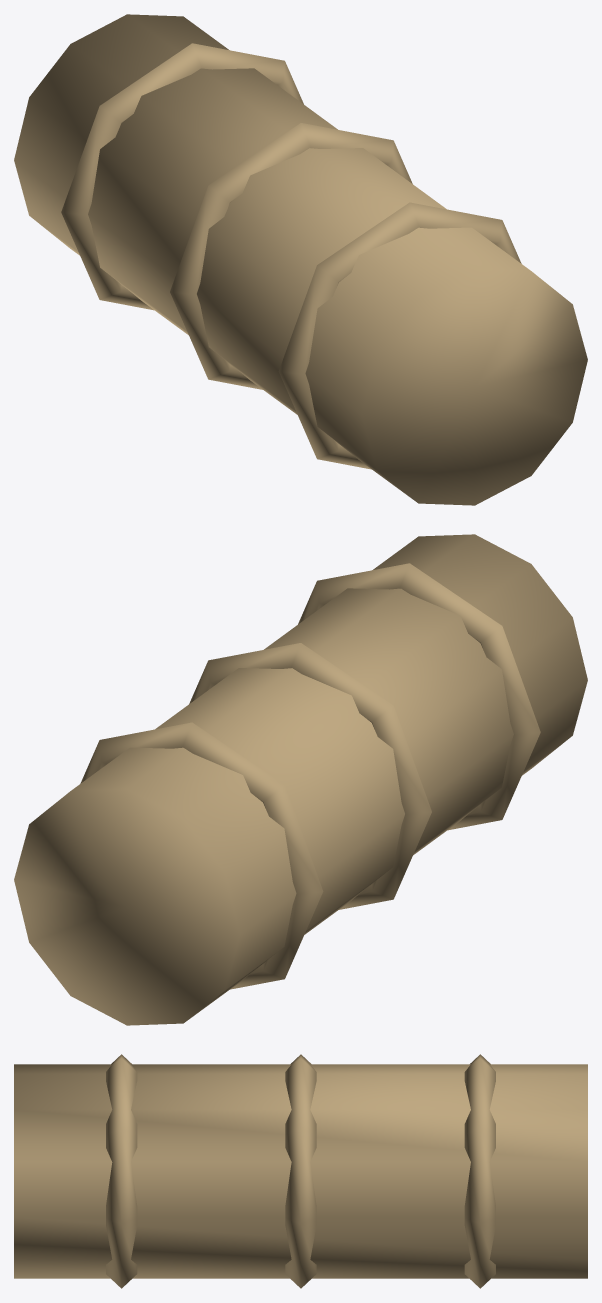
The model's file is fender.glb.
3 renders of one model, top to bottom at view 1: azimuth 30°, elevation 25°; view 2: azimuth 150°, elevation 25°; view 3: azimuth 270°, elevation 25°, orthographic. The views are drawn at different scales.
Parts seen in each view (by area): view 1: fender; view 2: fender; view 3: fender.
Boxes of the visible parts, x1,y1,x2,y2 form: fender: (14,14,587,505); fender: (14,534,587,1025); fender: (14,1054,587,1288).
Size of the model in its own units: 0.348 by 0.348 by 0.8.
